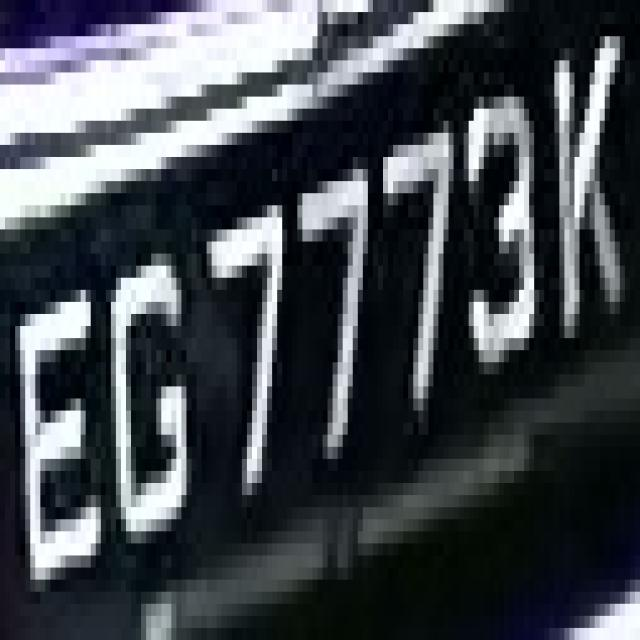3: (448, 72, 550, 398)
7: (277, 145, 388, 483), (373, 121, 484, 459), (192, 193, 292, 483)
E: (20, 278, 106, 628)
G: (111, 205, 201, 556)
K: (549, 48, 630, 338)
